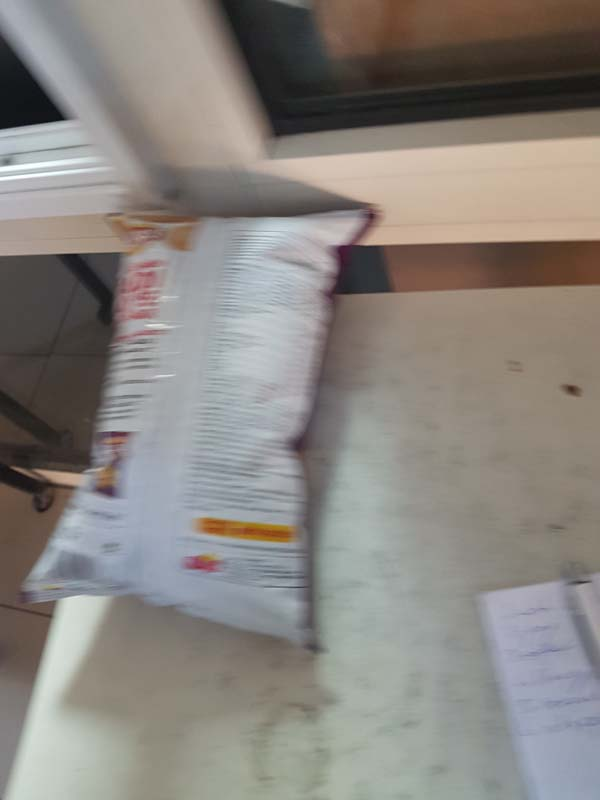layspeynirsoslu: (62, 210, 382, 638)
